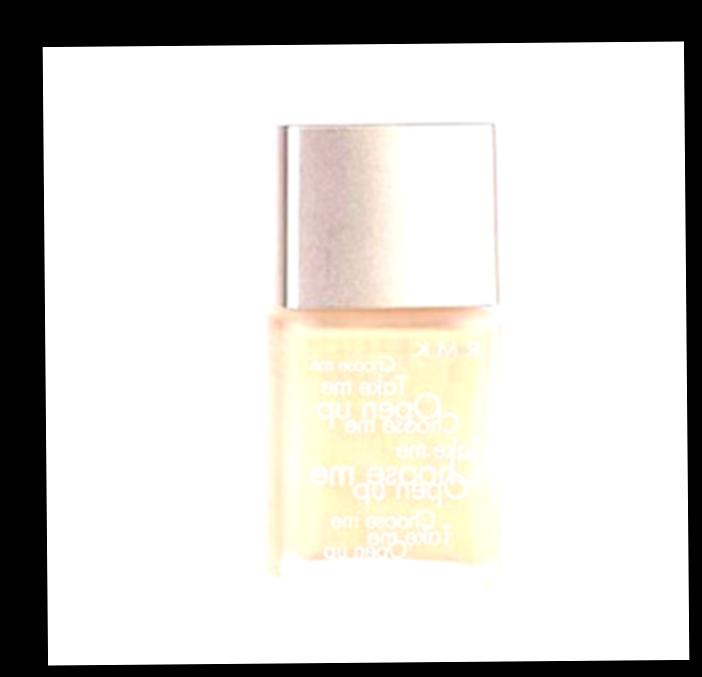cosmetic: (253, 119, 508, 595)
